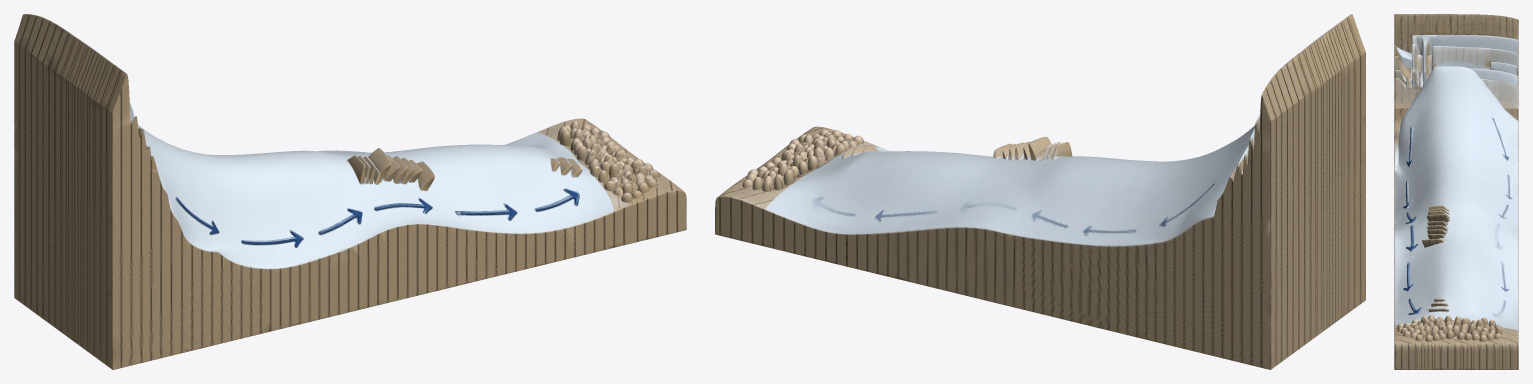
Rendered from Glasiyal.glb.
3 views of the same model, side by side, from view 1: azimuth 30°, elevation 25°; view 2: azimuth 150°, elevation 25°; view 3: azimuth 270°, elevation 25° (orthographic). The views are drawn at different scales.
Parts seen in each view (by area): view 1: Mesh_0; view 2: Mesh_0; view 3: Mesh_0.
Boxes of the visible parts, x1,y1,x2,y2 form: Mesh_0: [14, 14, 686, 369]; Mesh_0: [715, 14, 1365, 369]; Mesh_0: [1394, 14, 1518, 369].
Bounding box in the file's own units: 1.9 × 0.9275 × 0.5667.
Materials: 1 (1 with a texture image).
